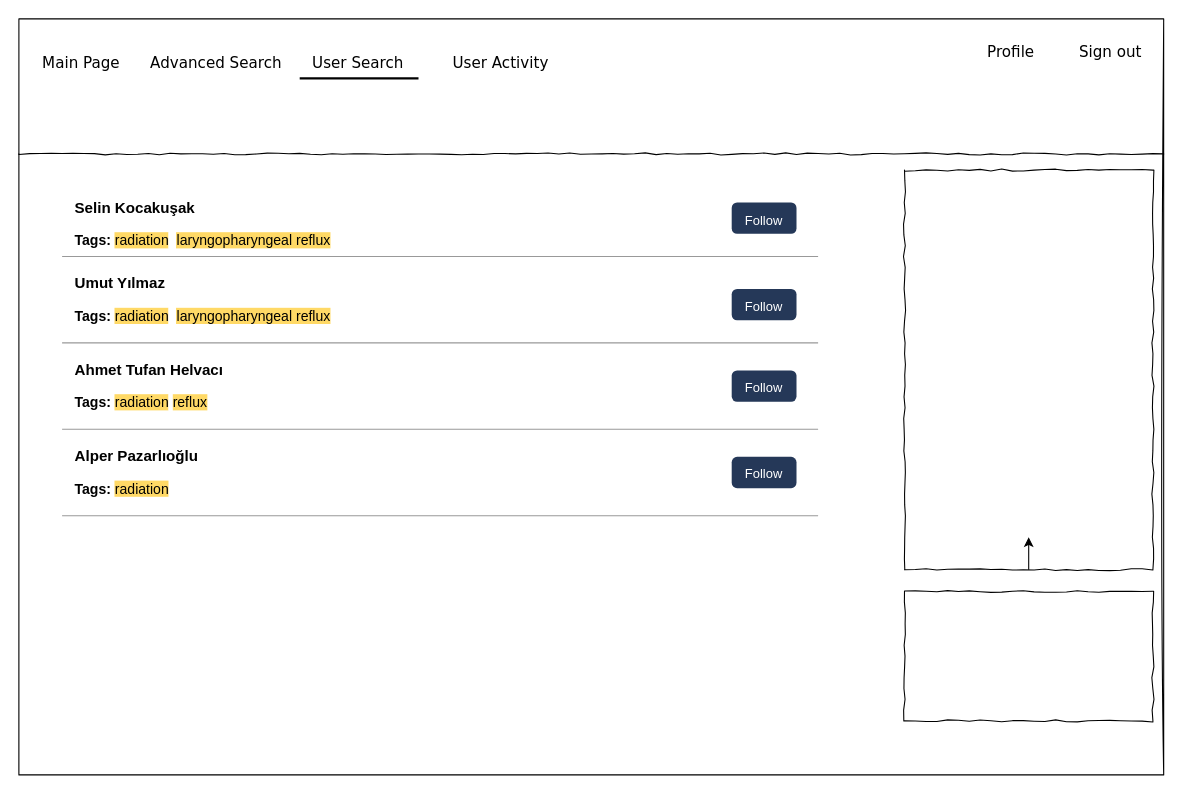
This 1183x794 diagram has some shape labels left out. Each missing label, with the centre of its shape:
All activities related to user's interest.: [1028,369]
External Links: [1028,655]
